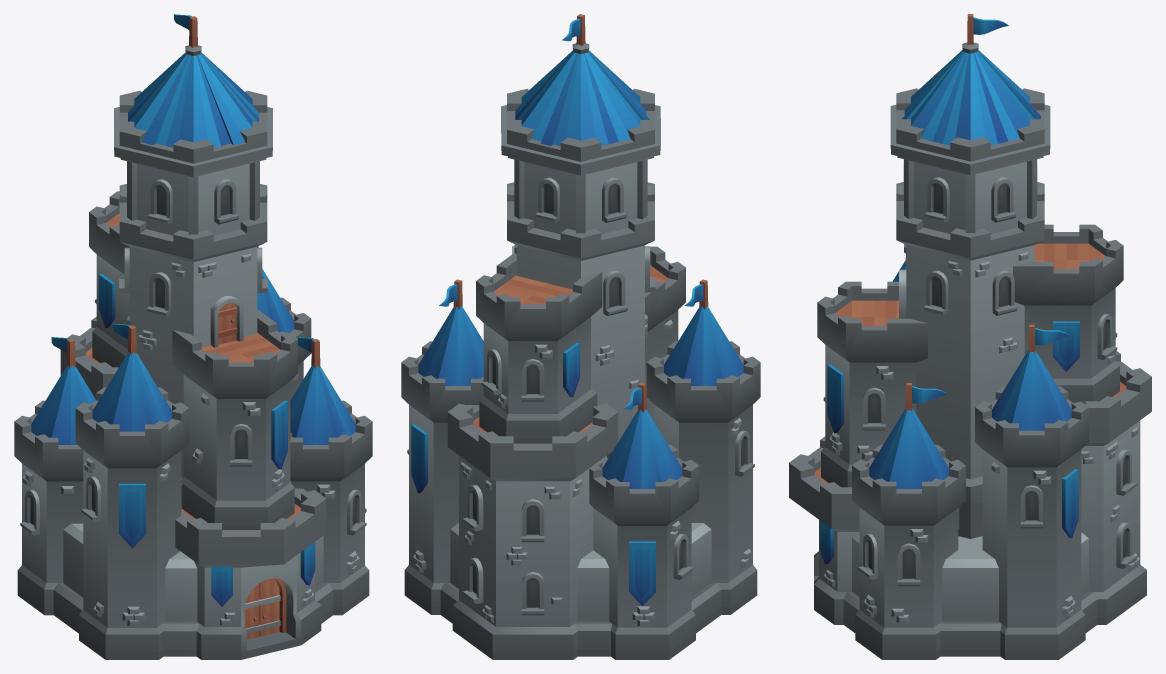
The model's file is env_hex.glb.
3 renders of one model, left to right at view 1: azimuth 30°, elevation 25°; view 2: azimuth 150°, elevation 25°; view 3: azimuth 270°, elevation 25°, orthographic.
Parts seen in each view (by area): view 1: building_castle_blue; view 2: building_castle_blue; view 3: building_castle_blue.
Boxes of the visible parts, left/top/right/bottom form: building_castle_blue: left=14, top=14, right=372, bottom=659; building_castle_blue: left=401, top=14, right=760, bottom=659; building_castle_blue: left=789, top=14, right=1151, bottom=659.
Size of the model in its own units: 1.98 by 3.98 by 2.26.
Materials: 1 (1 with a texture image).
